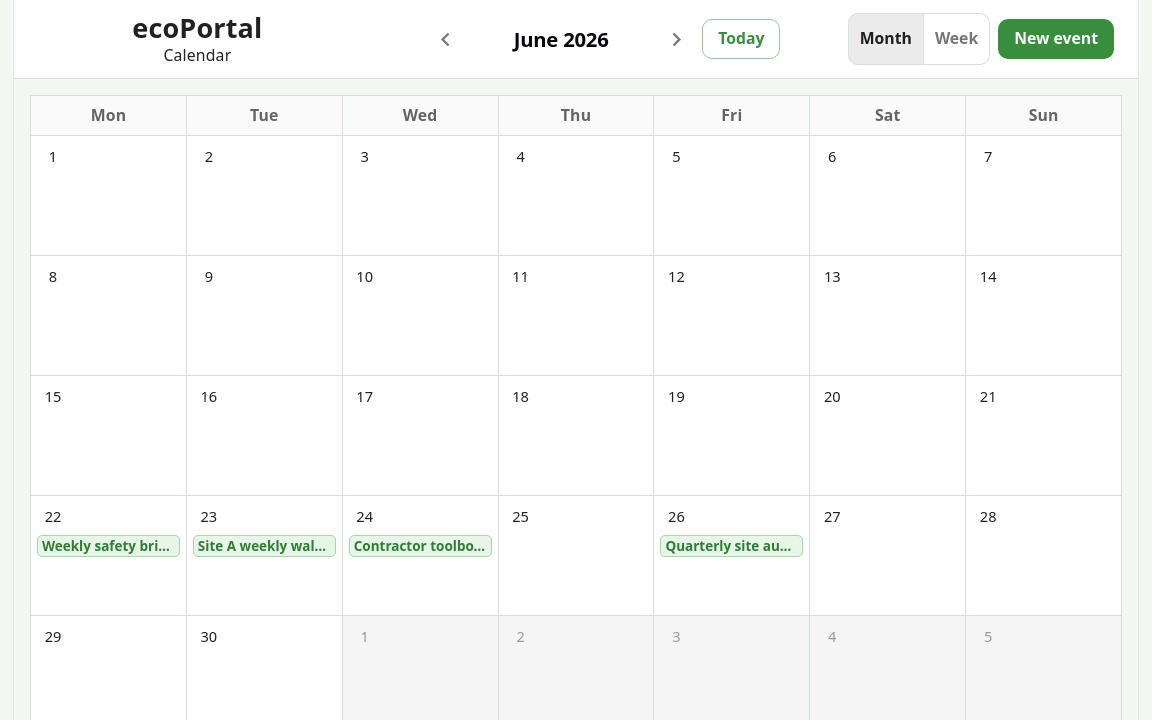
App integration › create › opens create mode at 09:00 when a month day is selected
What coordinates should you click on to do the following:
click the button named "Create event on June 23, 2026"
I would click on:
 (209, 516)
Its box is [193, 502, 225, 531].
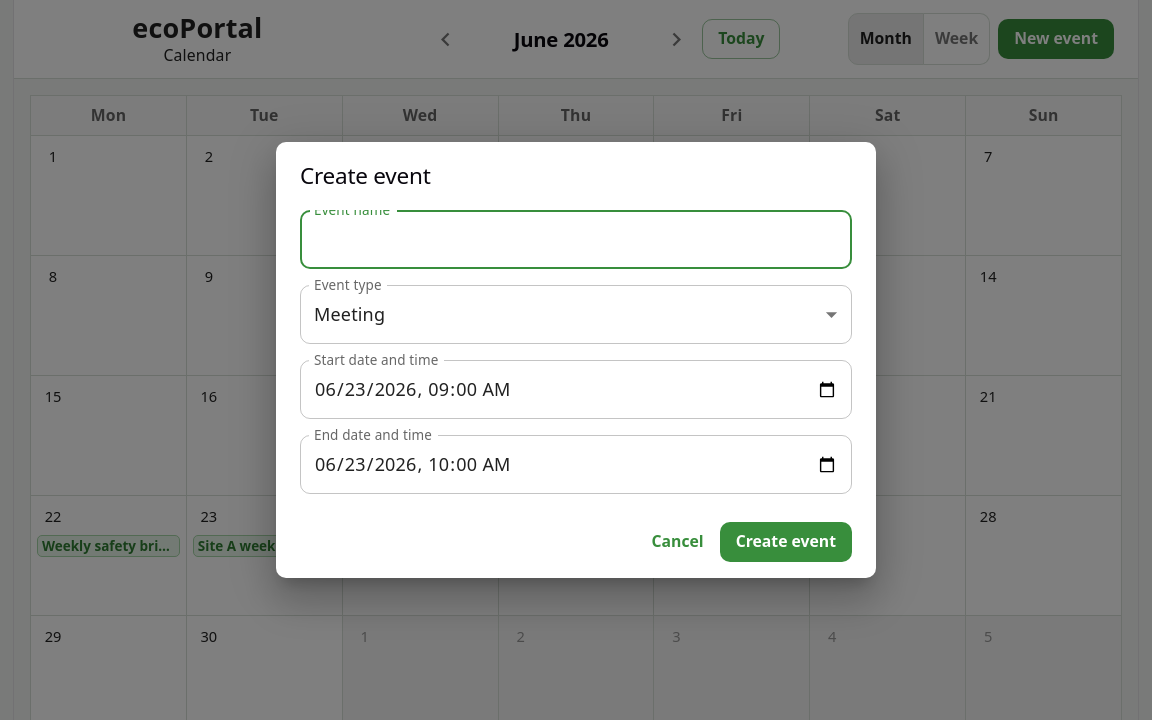
Now the heading "Create event" is shown, box [300, 160, 430, 192]
Now the field labelled "Start date and time" holds "2026-06-23T09:00", box [300, 360, 852, 419]
